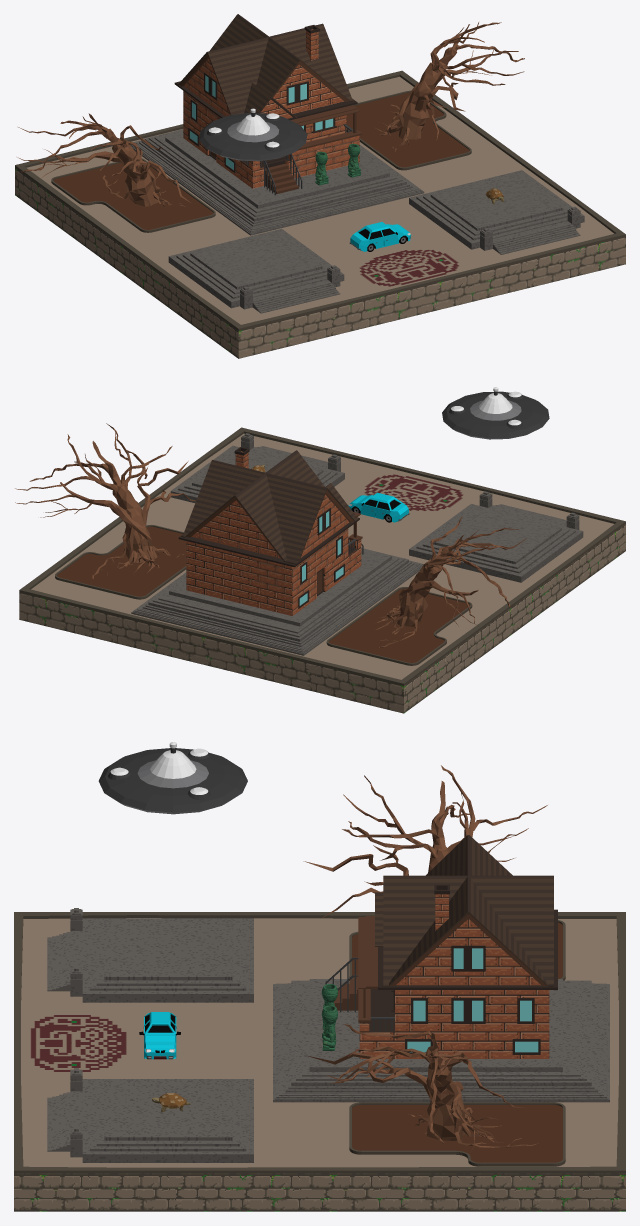
3 views of the same model, one above another, from view 1: azimuth 30°, elevation 25°; view 2: azimuth 150°, elevation 25°; view 3: azimuth 270°, elevation 25° (orthographic). The views are drawn at different scales.
Parts seen in each view (by area): view 1: Cube.011, Cube.469, OBJRANDOM_UFO, VEHICLES_CAR; view 2: Cube.011, Cube.469, OBJRANDOM_UFO, VEHICLES_CAR; view 3: Cube.011, Cube.469, OBJRANDOM_UFO, VEHICLES_CAR.
Part boxes in pixels (x1=…): Cube.011: x1=15, y1=22, x2=625, y2=358; Cube.469: x1=174, y1=14, x2=362, y2=195; OBJRANDOM_UFO: x1=199, y1=108, x2=307, y2=161; VEHICLES_CAR: x1=349, y1=222, x2=411, y2=251; Cube.011: x1=15, y1=423, x2=625, y2=713; Cube.469: x1=178, y1=447, x2=363, y2=615; OBJRANDOM_UFO: x1=442, y1=387, x2=549, y2=439; VEHICLES_CAR: x1=348, y1=492, x2=409, y2=522; Cube.011: x1=14, y1=765, x2=625, y2=1211; Cube.469: x1=325, y1=835, x2=557, y2=1058; OBJRANDOM_UFO: x1=98, y1=742, x2=247, y2=814; VEHICLES_CAR: x1=139, y1=1012, x2=180, y2=1059.
Bounding box in the file's own units: 5099 × 1898 × 4000.
Materials: 34 (7 with a texture image).
